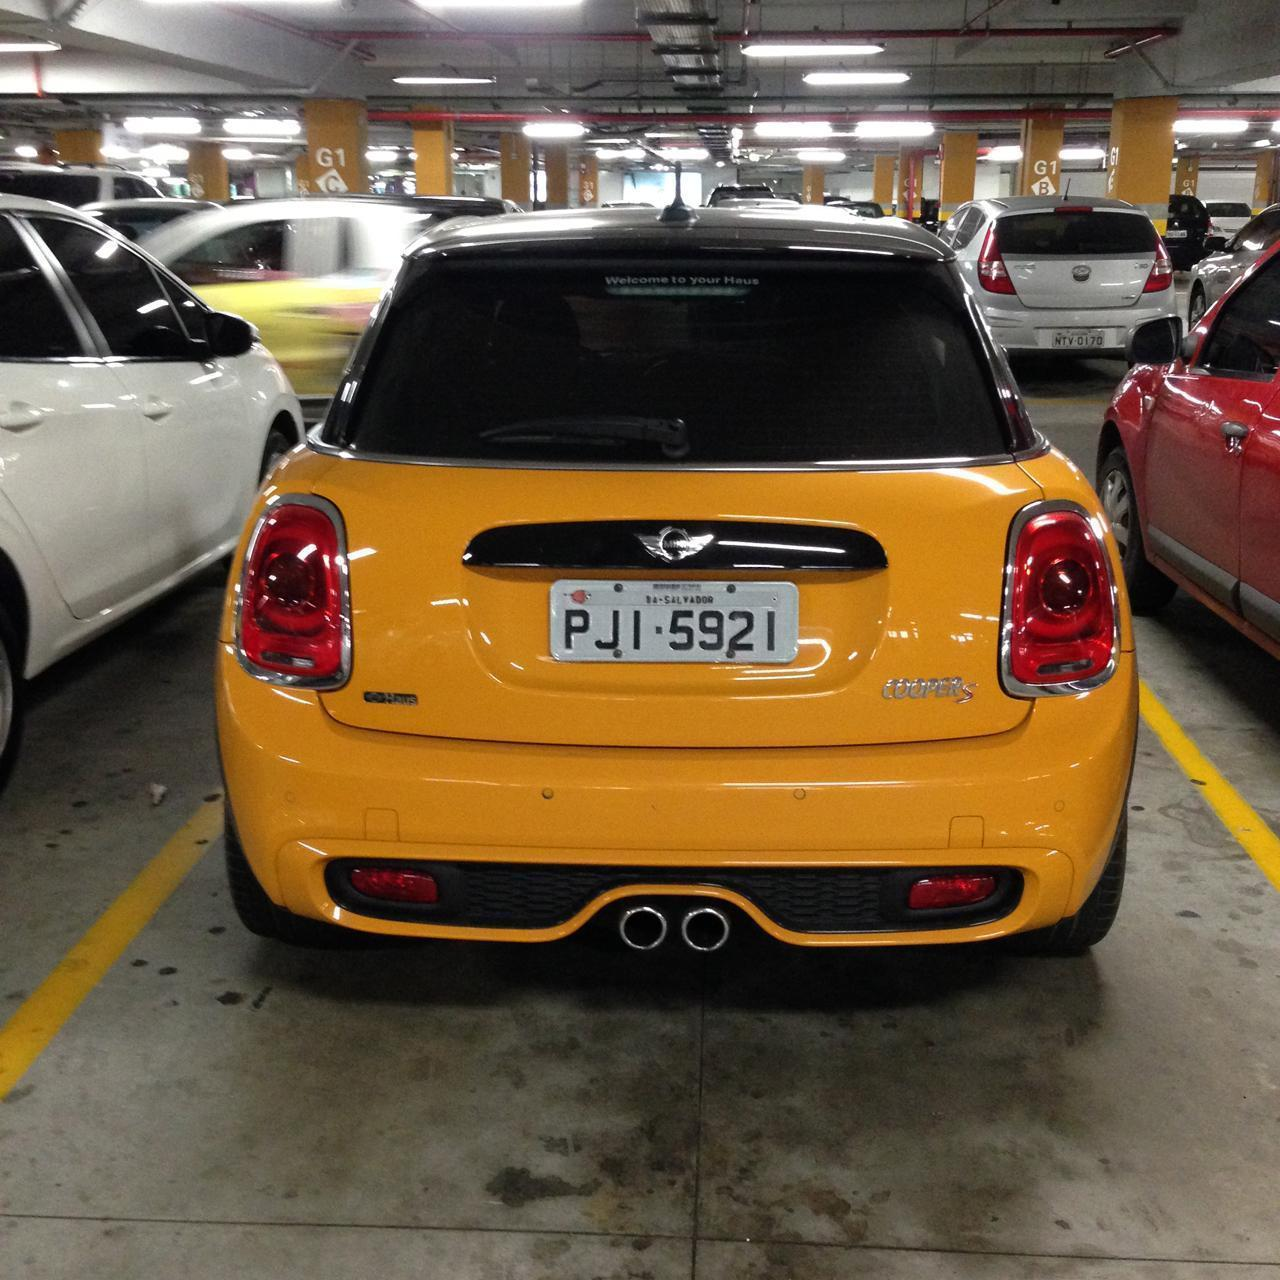placa de veiculo: (511, 530, 843, 683), (1045, 309, 1135, 370)
